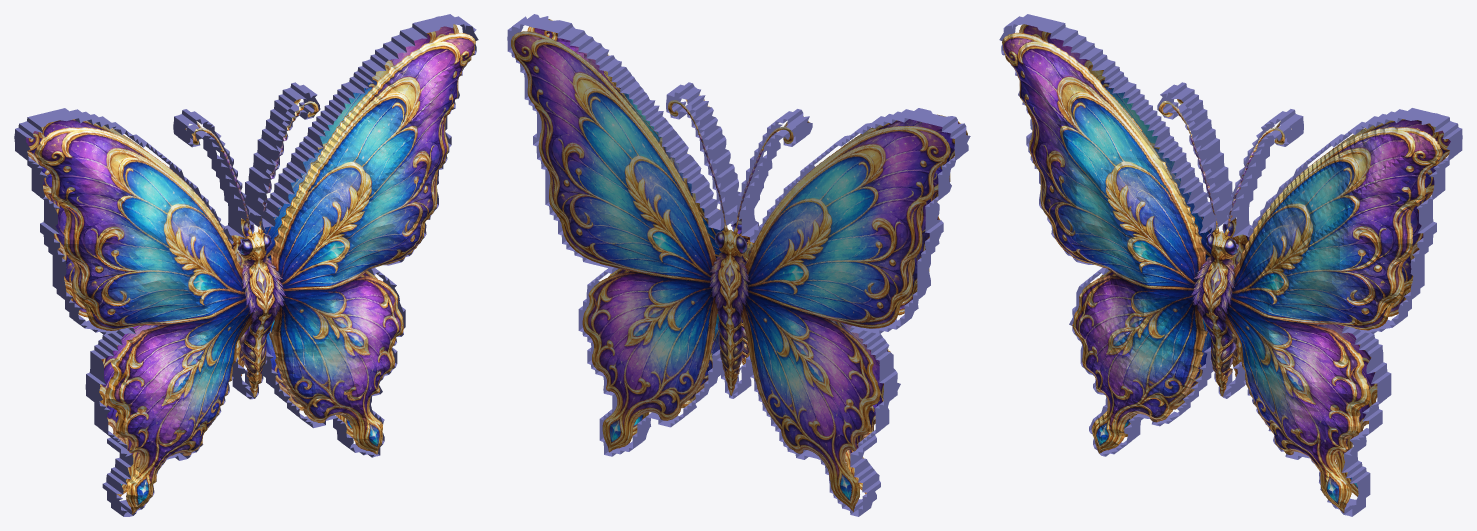
File: butterfly.obj
The picture shows the model from 3 angles, left to right: view 1: azimuth 30°, elevation 25°; view 2: azimuth 150°, elevation 25°; view 3: azimuth 330°, elevation 25°; orthographic projection.
Parts seen in each view (by area): view 1: front_exact, solid_edges, back_exact; view 2: back_exact, solid_edges, front_exact; view 3: front_exact, solid_edges, back_exact.
Part boxes in pixels (x1,y1,x2,y2): front_exact: (34,32,475,514); solid_edges: (14,14,478,516); back_exact: (26,24,458,496); back_exact: (511,31,950,512); solid_edges: (507,14,970,516); front_exact: (527,19,967,493); front_exact: (1002,32,1442,512); solid_edges: (999,14,1462,516); back_exact: (1019,24,1450,496).
Size of the model in its own units: 4.38 by 3.84 by 0.5938.
Materials: 2 (1 with a texture image).
